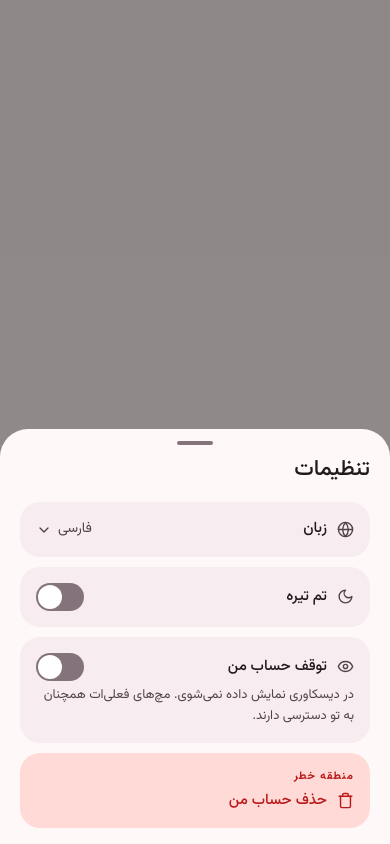
Test: SettingsSheet › congratulates users leaving because they met someone
Click the text "حذف حساب من". click: (291, 800)
box: [229, 788, 354, 812]
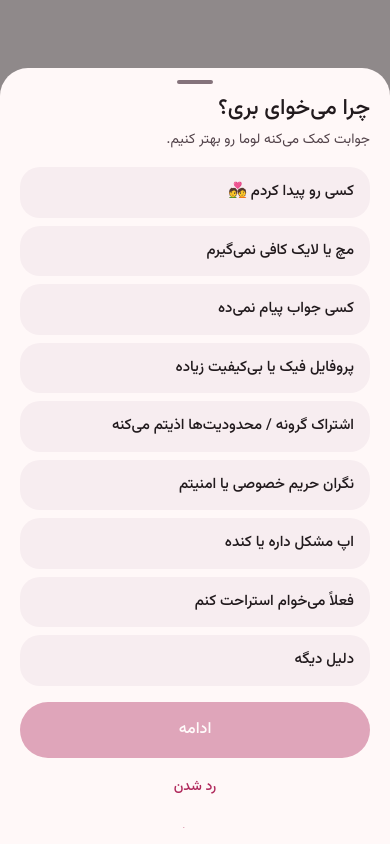
Click the radio button labelled "کسی رو پیدا کردم 💑". click: (291, 192)
box: [20, 167, 370, 218]
(page scrolled)
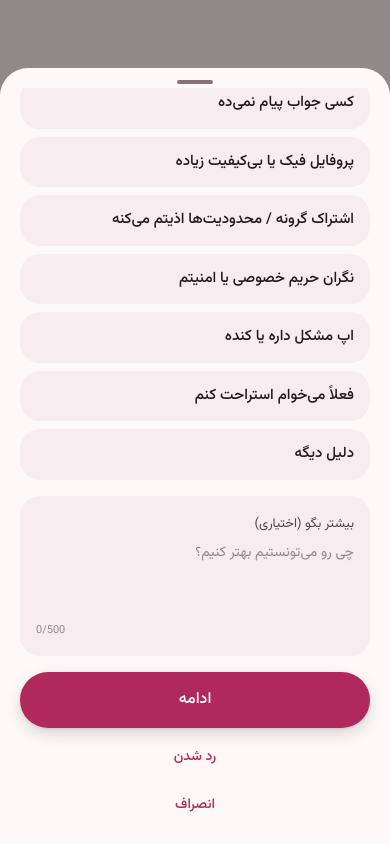
Click the button "ادامه". click: (195, 700)
box: [20, 672, 370, 728]
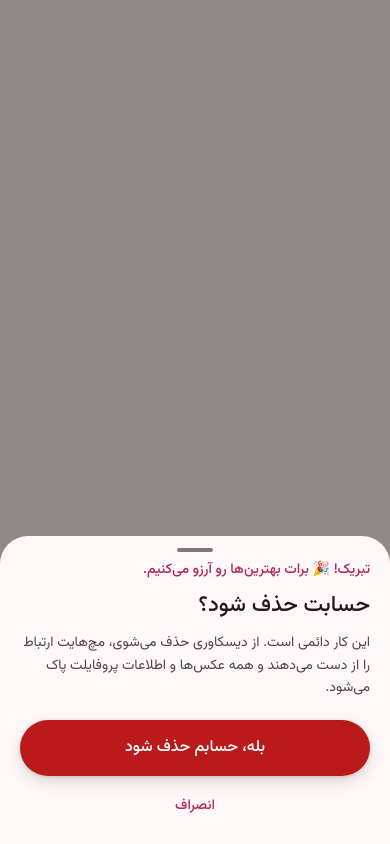
Expected: the text "تبریک! 🎉 برات بهترین‌ها رو آرزو می‌کنیم." is shown, [143, 559, 370, 581]
Expected: the heading "حسابت حذف شود؟" is shown, [198, 588, 370, 623]
